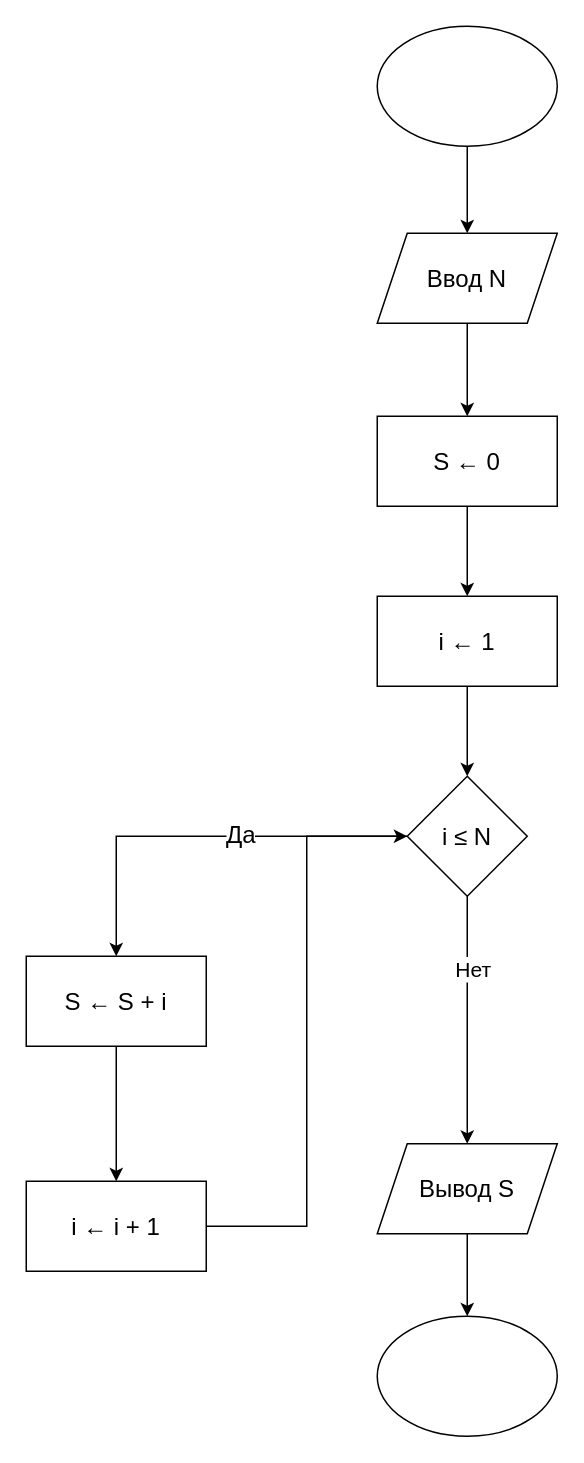
The diagram is 584 pixels wide and 1463 high, and some of its shapes have lost their labels. Each missing label, with the centre of its shape:
"Конец" belongs at point (466, 1375).
"Начало" belongs at point (466, 85).
